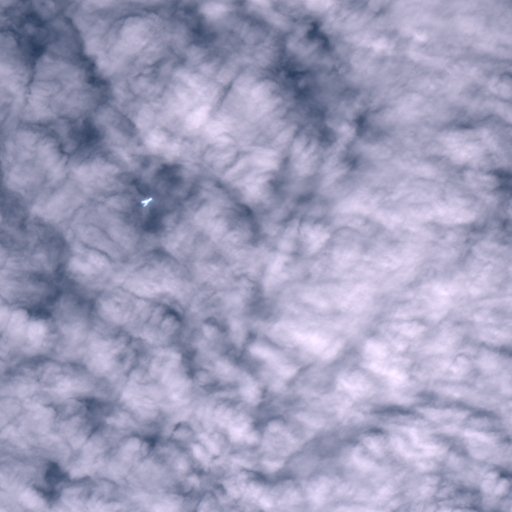Iceberg: (141, 197, 152, 206)
